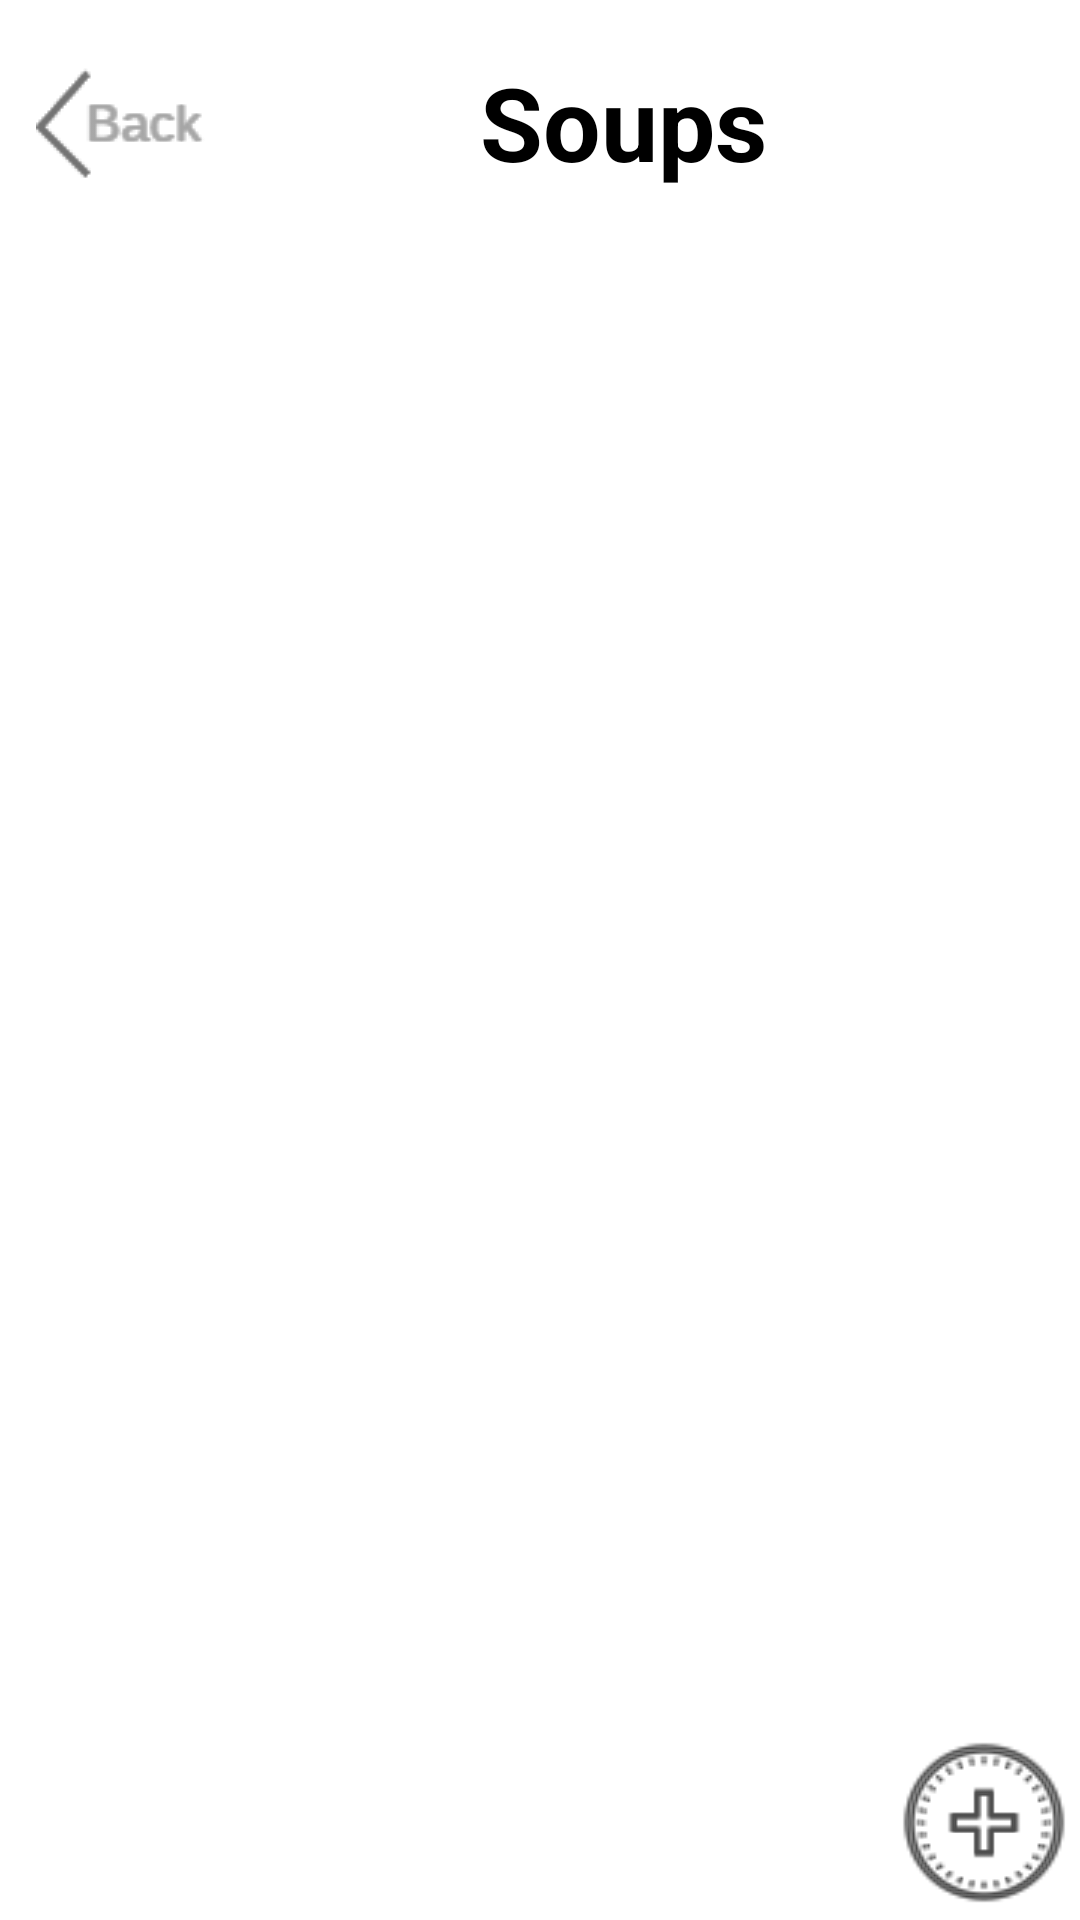

Icon bounding boxes for this 1080 x 1920 phone screenshot, format (x1, y1, x2, y2):
add: (903, 1743, 1065, 1902)
